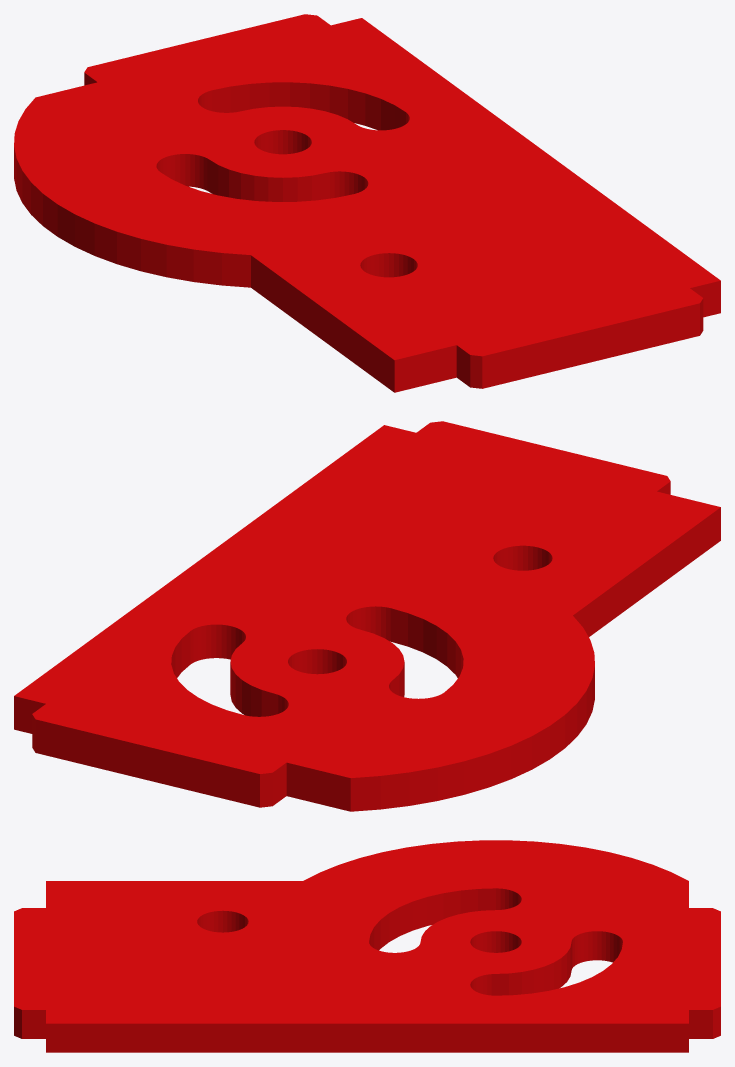
Rendered from Ara3.fbx.
3 views of the same model, one above another, from view 1: azimuth 30°, elevation 25°; view 2: azimuth 150°, elevation 25°; view 3: azimuth 270°, elevation 25° (orthographic). The views are drawn at different scales.
Parts seen in each view (by area): view 1: Держатель камеры (алюминий 2мм); view 2: Держатель камеры (алюминий 2мм); view 3: Держатель камеры (алюминий 2мм).
Part boxes in pixels (left/top/right/bottom): Держатель камеры (алюминий 2мм): left=14, top=14, right=720, bottom=392; Держатель камеры (алюминий 2мм): left=14, top=421, right=720, bottom=811; Держатель камеры (алюминий 2мм): left=14, top=840, right=720, bottom=1052.
Bounding box in the file's own units: 270 × 440 × 20.
